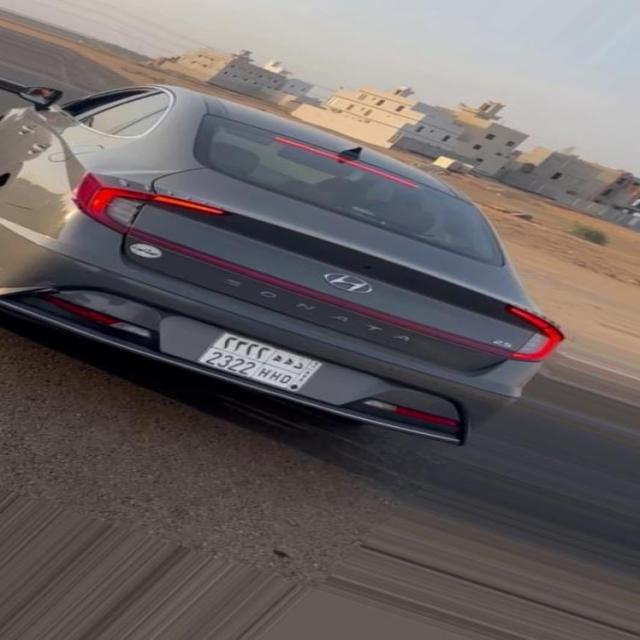Car-plate: (197, 325, 327, 408)
